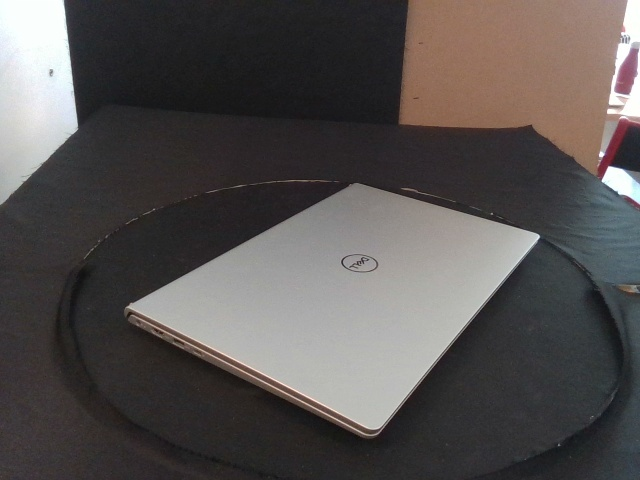laptop: (121, 180, 541, 438)
